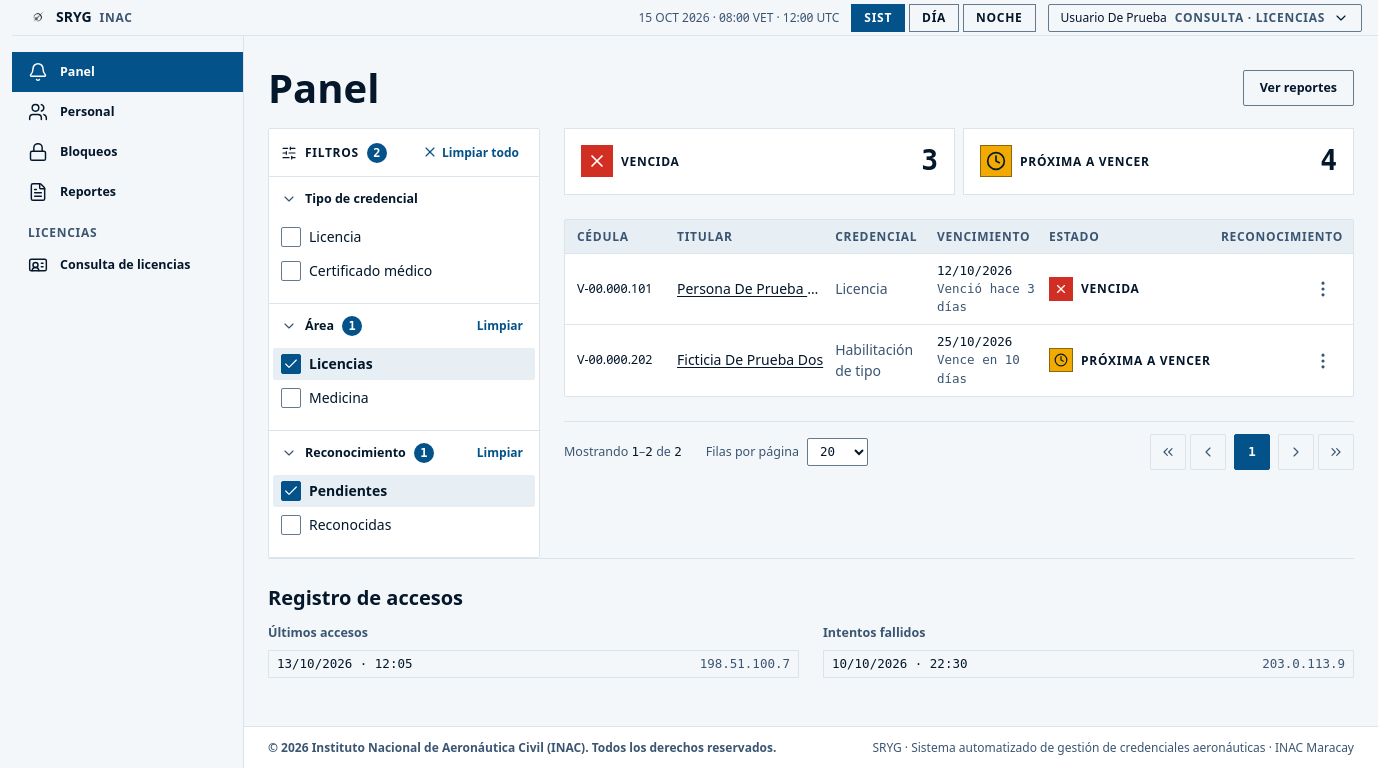
Test: /panel (ALR-03) › links to the reports for roles that read them
Click the link "Ver reportes" at (1298, 88), box [1243,70,1354,106]
(page scrolled)
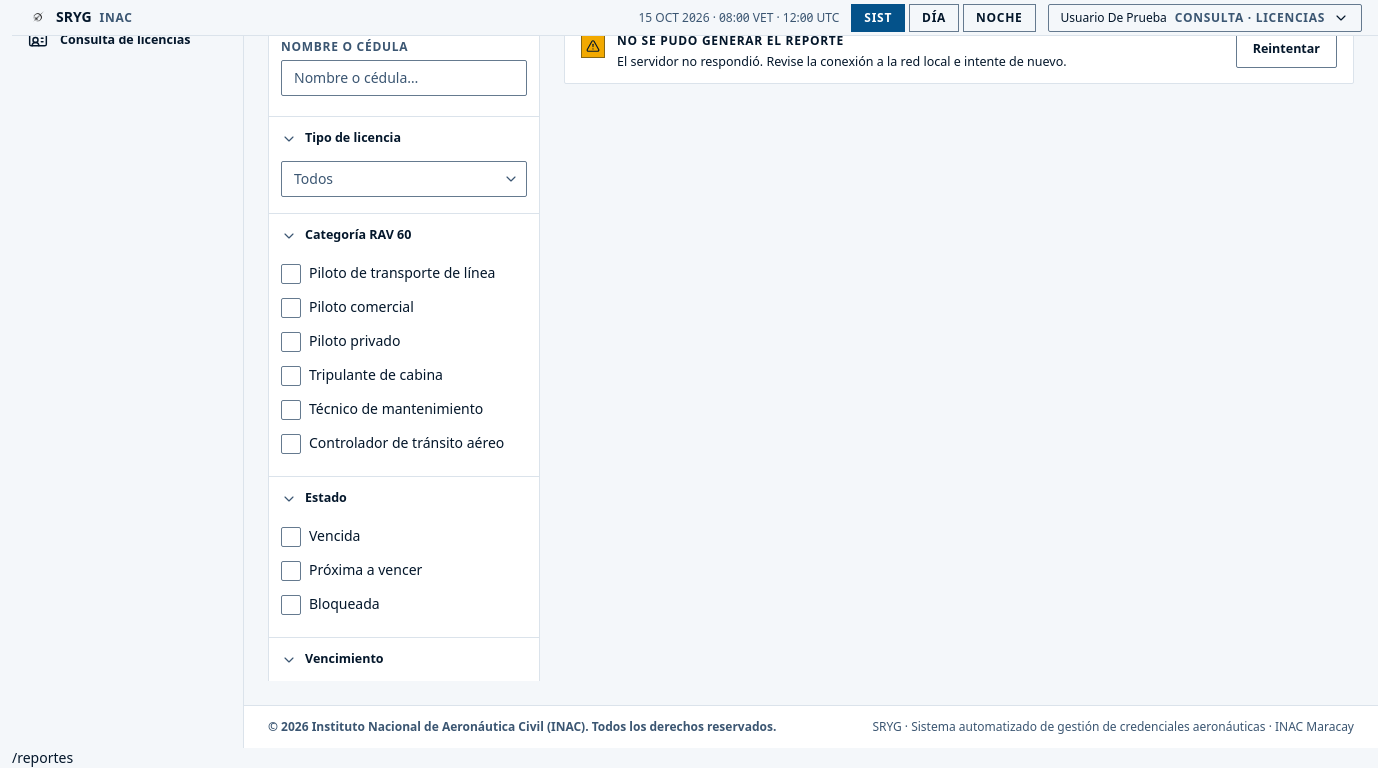
Now the text with test id "location" reads "/reportes", box [12,748,73,766]
